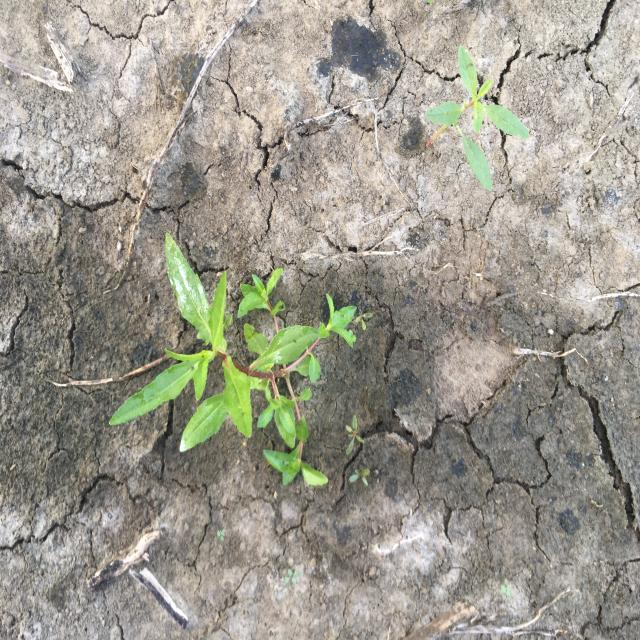Eclipta: (108, 231, 358, 488)
Waterhemp: (422, 43, 531, 193)
